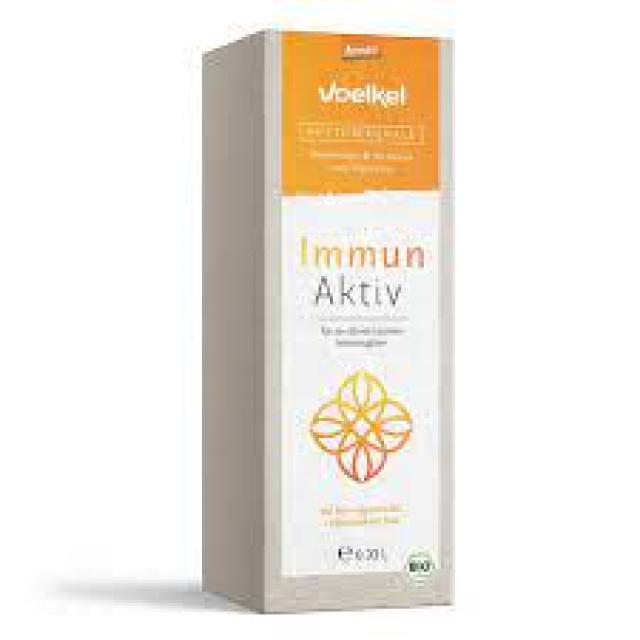non_white_jug: (182, 19, 478, 622)
